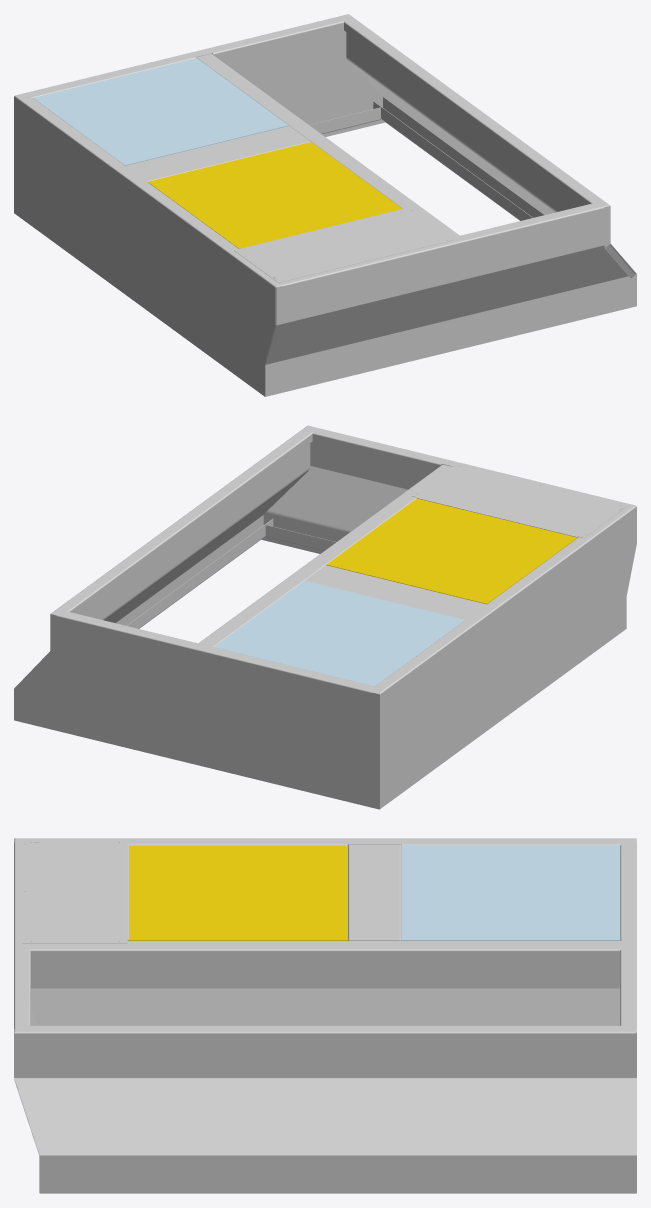
The picture shows the model from 3 angles, top to bottom: view 1: azimuth 30°, elevation 25°; view 2: azimuth 150°, elevation 25°; view 3: azimuth 270°, elevation 25°; orthographic projection. The views are drawn at different scales.
Parts seen in each view (by area): view 1: TO-1287-C, TO-1287-A, Part 23, Part 22, TO-1287-b, TO-1287-d1, TO-1287-H, TO-1287-B, TO-1287-D, TO-1287-G, TO-1287-F, TO-1287-II (+2 smaller); view 2: TO-1287-D, TO-1287-A, Part 22, Part 23, TO-1287-b, TO-1287-c1, TO-1287-H, TO-1287-B, TO-1287-G, TO-1287-F, TO-1287-C, TO-1287-II (+2 smaller); view 3: TO-1287-B, TO-1287-g-P, Part 23, Part 22, TO-1287-G, TO-1287-H, TO-1287-F, TO-1287-A, TO-1287-D, TO-1287-C.
Boxes of the visible parts, bbox=[...] form: TO-1287-C: bbox=[265, 203, 636, 396]; TO-1287-A: bbox=[14, 95, 277, 396]; Part 23: bbox=[33, 58, 288, 165]; Part 22: bbox=[148, 142, 402, 248]; TO-1287-b: bbox=[346, 32, 636, 291]; TO-1287-d1: bbox=[212, 30, 382, 124]; TO-1287-H: bbox=[234, 207, 453, 282]; TO-1287-B: bbox=[344, 14, 636, 305]; TO-1287-D: bbox=[15, 14, 385, 136]; TO-1287-G: bbox=[196, 53, 459, 237]; TO-1287-F: bbox=[125, 126, 310, 181]; TO-1287-II: bbox=[373, 101, 532, 220]; TO-1287-D: bbox=[14, 611, 379, 809]; TO-1287-A: bbox=[375, 505, 636, 809]; Part 22: bbox=[326, 498, 577, 604]; Part 23: bbox=[214, 581, 464, 686]; TO-1287-b: bbox=[14, 443, 310, 706]; TO-1287-c1: bbox=[263, 441, 442, 541]; TO-1287-H: bbox=[411, 464, 627, 537]; TO-1287-B: bbox=[14, 425, 312, 719]; TO-1287-G: bbox=[198, 464, 453, 646]; TO-1287-F: bbox=[304, 565, 486, 619]; TO-1287-C: bbox=[261, 425, 635, 553]; TO-1287-II: bbox=[126, 519, 273, 628]; TO-1287-B: bbox=[14, 1025, 636, 1193]; TO-1287-g-P: bbox=[31, 960, 619, 1025]; Part 23: bbox=[401, 845, 621, 940]; Part 22: bbox=[129, 845, 347, 940]; TO-1287-G: bbox=[29, 941, 621, 959]; TO-1287-H: bbox=[22, 841, 128, 943]; TO-1287-F: bbox=[348, 844, 401, 940]; TO-1287-A: bbox=[15, 838, 635, 845]; TO-1287-D: bbox=[620, 838, 636, 1193]; TO-1287-C: bbox=[14, 838, 39, 1193].
Bounding box in the file's own units: 1.16 × 0.35 × 1.41.
